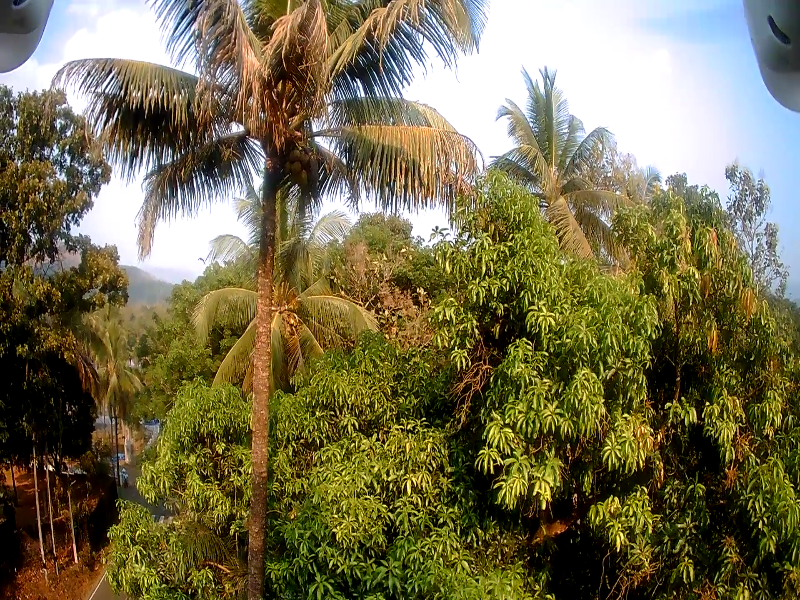coconut: (289, 161, 298, 173), (298, 152, 306, 164), (293, 149, 297, 154)
